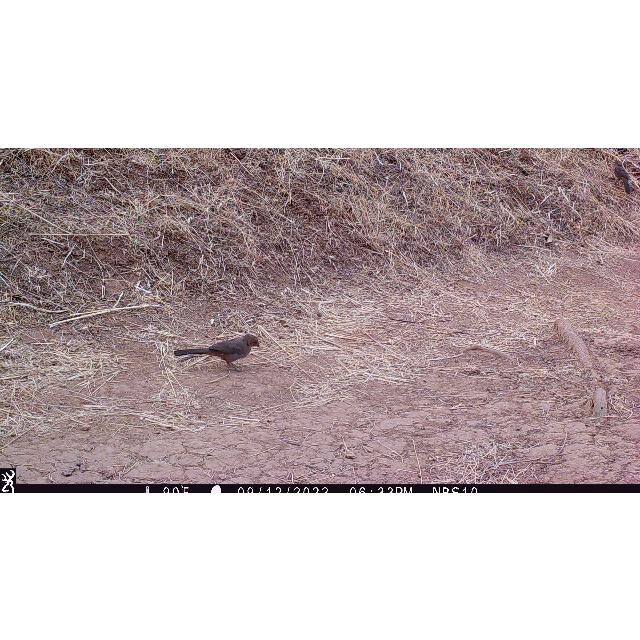animals: (172, 332, 262, 373)
